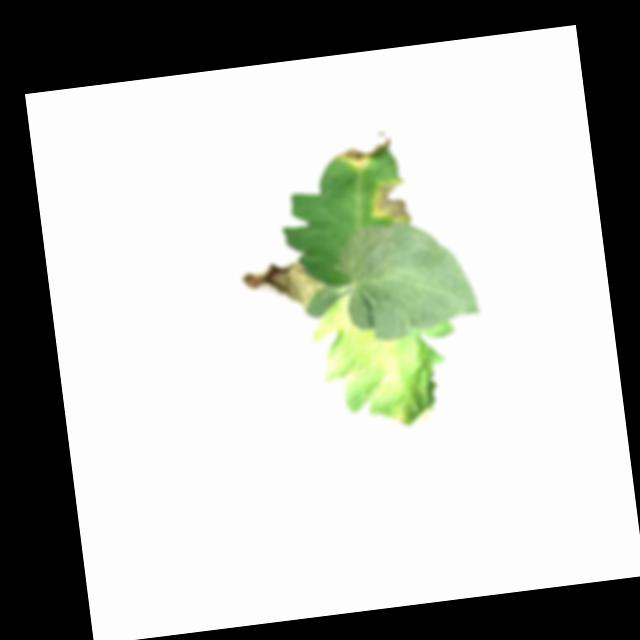Late_blight: (238, 256, 330, 321), (337, 131, 395, 172), (367, 177, 415, 226), (389, 397, 416, 427), (374, 368, 398, 394)
